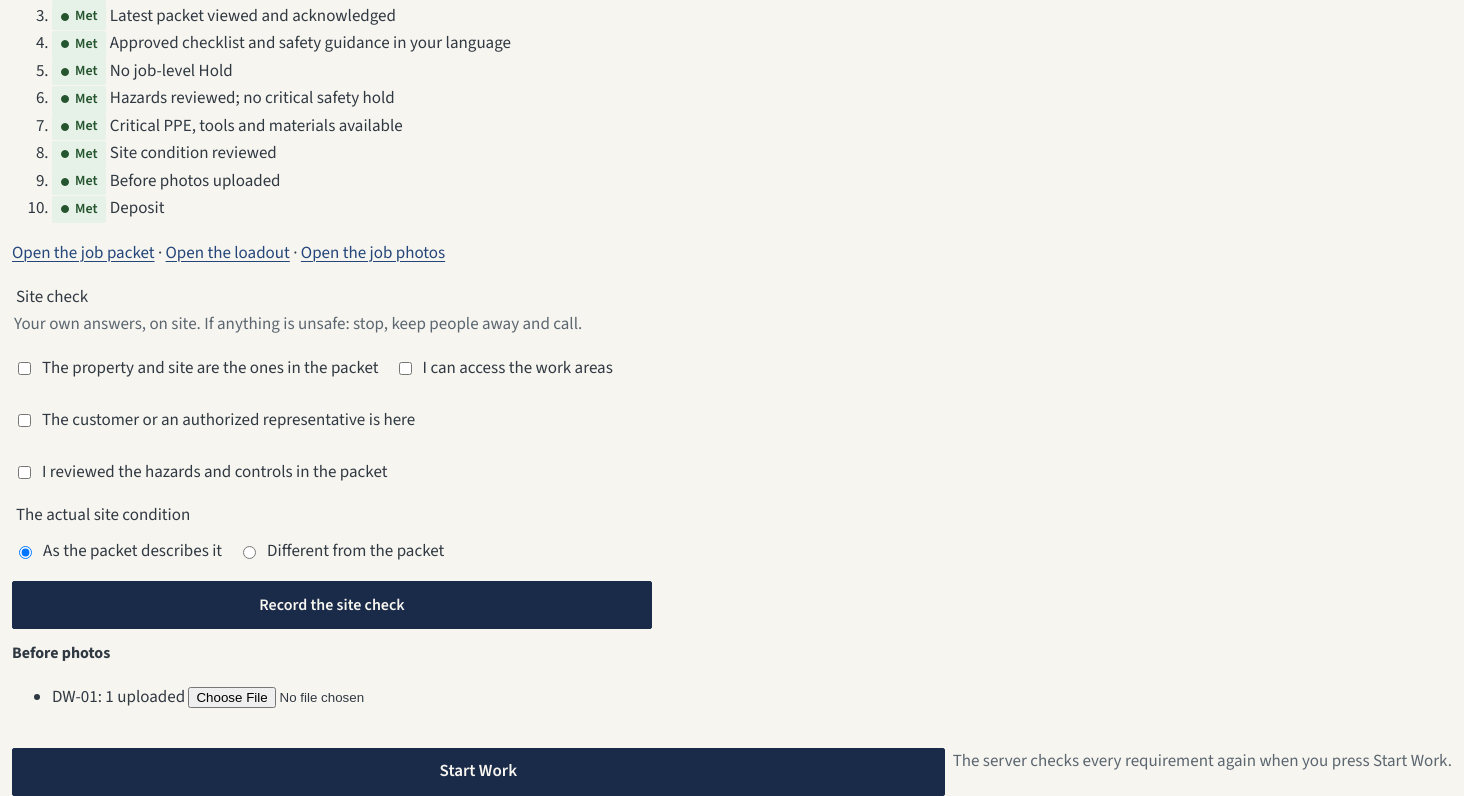
Test: [HH-WORK-01][T46] the Start Work briefing › sends only the packet version shown; a refusal reloads the gate and says so
(page scrolled)
Click the button "Start Work".
click(478, 772)  # box [12,748,945,795]
(page scrolled)
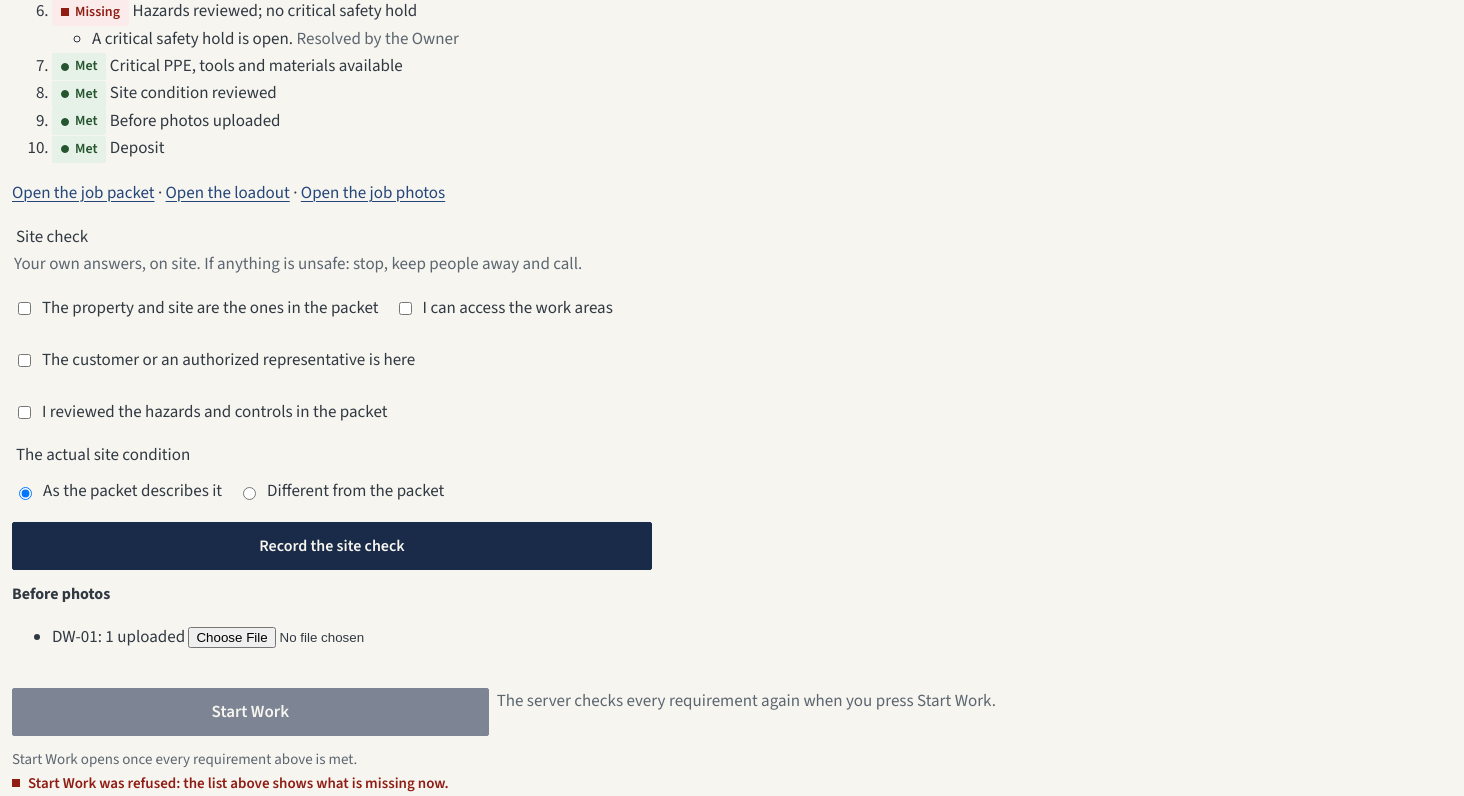
Now the message "Start Work was refused: the list above shows what is missing now." is shown, box [28,773,449,794]
Now the list item "A critical safety hold is open." is shown, box [92,27,293,51]
